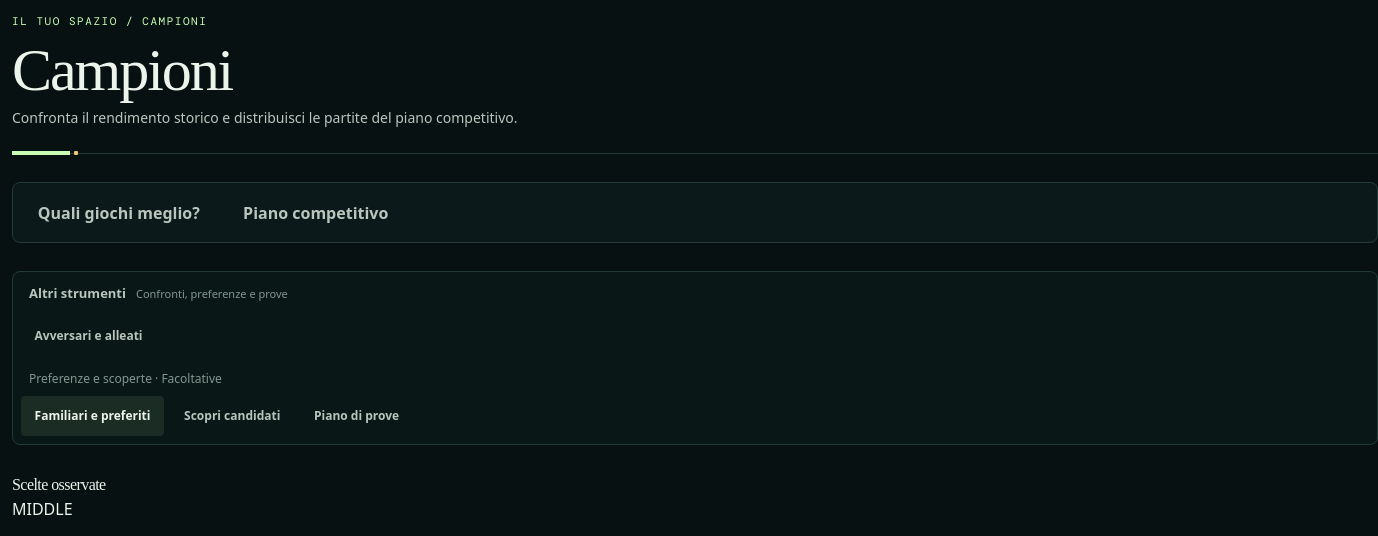
Test: link del contenitore campioni fra suggerimenti e analisi comuni › mantiene MIDDLE da choices/discover a Rendimento comune
The image size is (1378, 536).
Check: the text named "Ruolo effettivo" reads "MIDDLE", box [12, 498, 73, 520]
Click the link "Quali giochi meglio?" at (119, 213), box [38, 202, 200, 224]
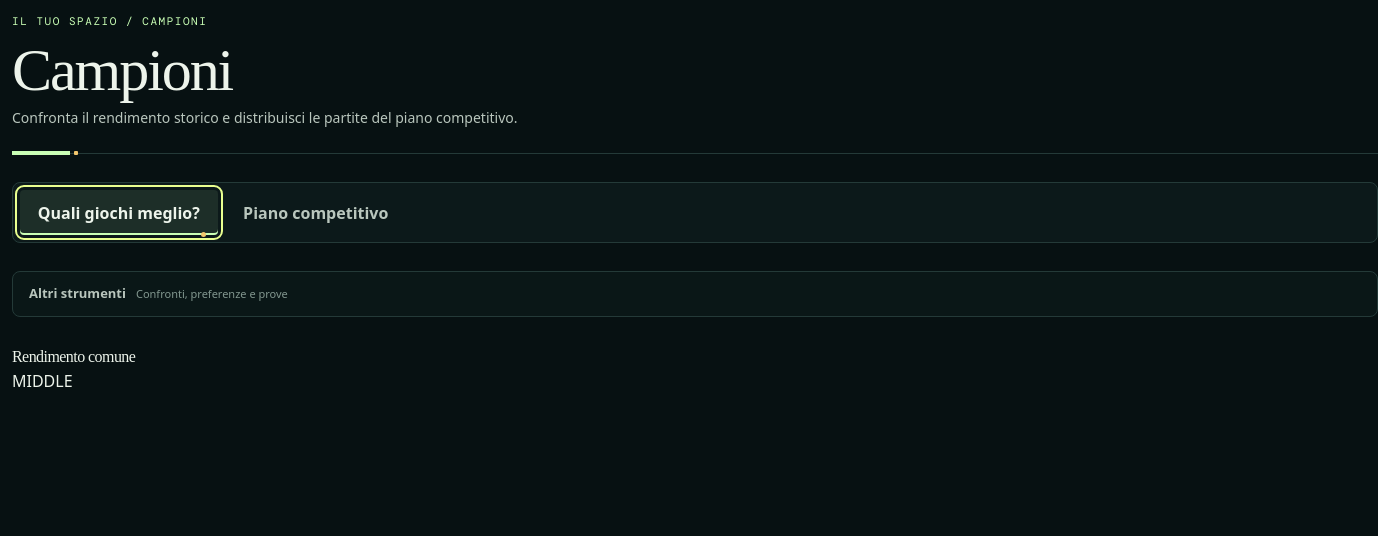
Check: the text named "Ruolo effettivo" reads "MIDDLE", box [12, 370, 73, 392]
Check: the heading "Rendimento comune" is shown, box [12, 348, 135, 365]
